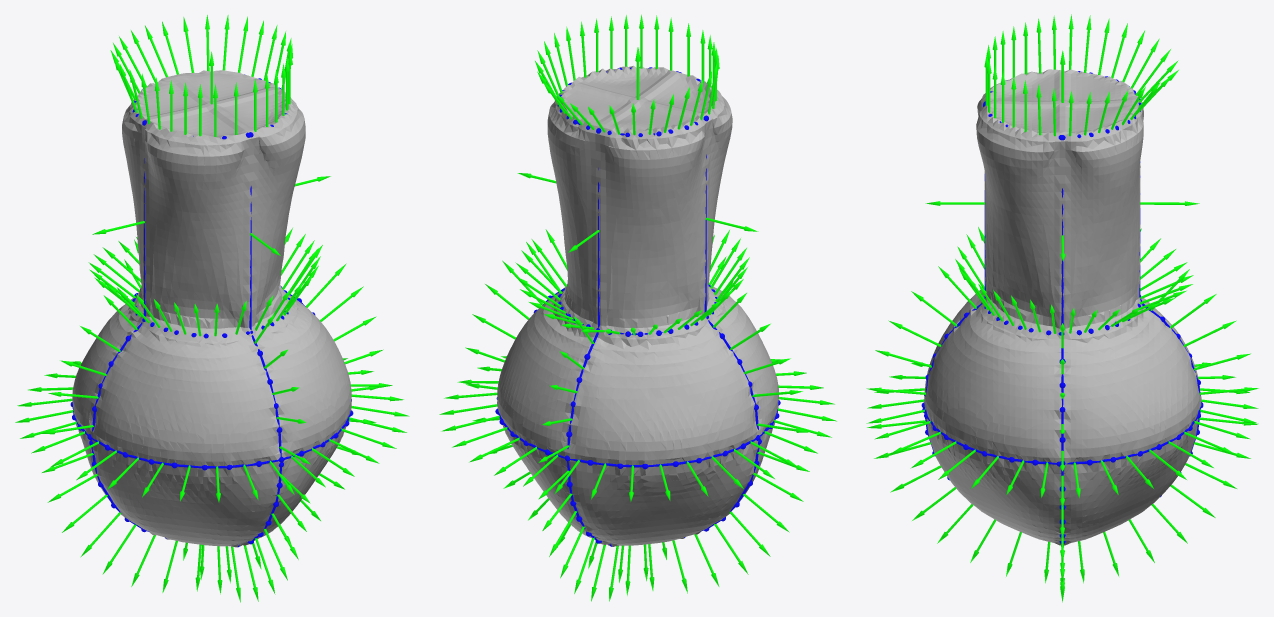
File: flowrep_spherecylinder.gltf
The picture shows the model from 3 angles, left to right: view 1: azimuth 30°, elevation 25°; view 2: azimuth 150°, elevation 25°; view 3: azimuth 270°, elevation 25°; orthographic projection.
Size of the model in its own units: 0.6459 by 0.9663 by 0.6459.
